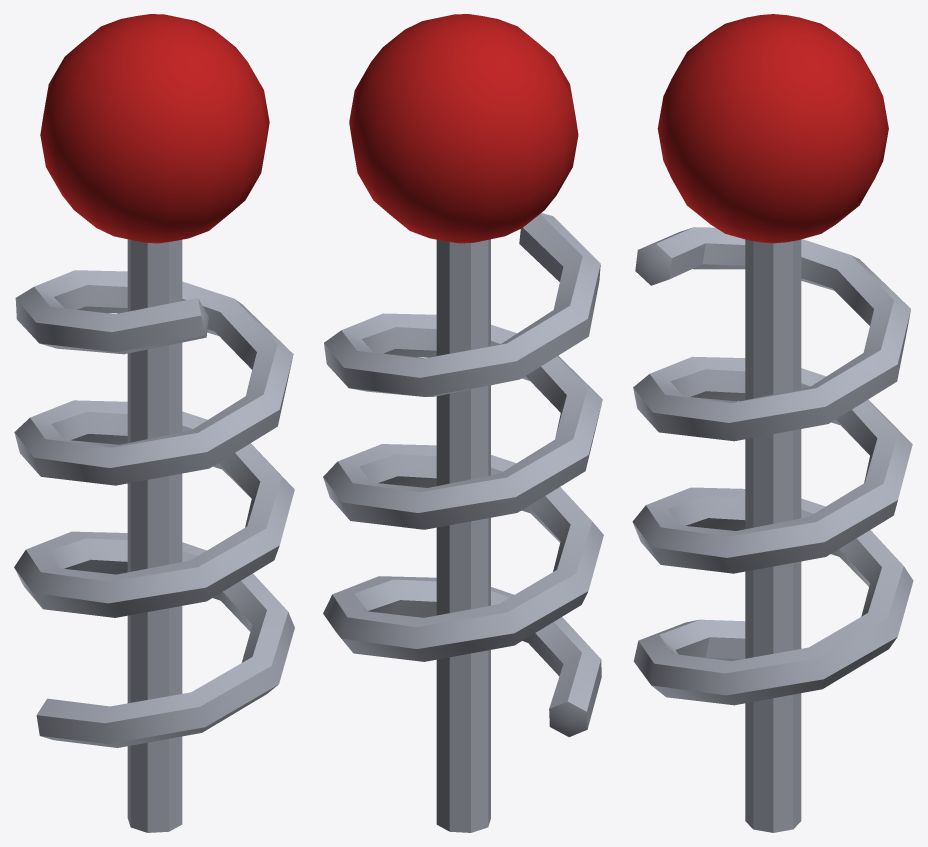
The model's file is Bot_Antenna.fbx.
3 views of the same model, side by side, from view 1: azimuth 30°, elevation 25°; view 2: azimuth 150°, elevation 25°; view 3: azimuth 270°, elevation 25° (orthographic).
Parts seen in each view (by area): view 1: Bot_Antenna; view 2: Bot_Antenna; view 3: Bot_Antenna.
Boxes of the visible parts, box(x1,y1,x2,y2) form: Bot_Antenna: box(14, 14, 294, 832); Bot_Antenna: box(323, 14, 603, 832); Bot_Antenna: box(632, 14, 913, 832).
Bounding box in the file's own units: 0.0276 × 0.0883 × 0.028.
